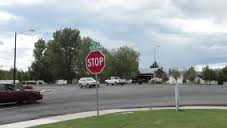stop_sign: (85, 50, 106, 74)
